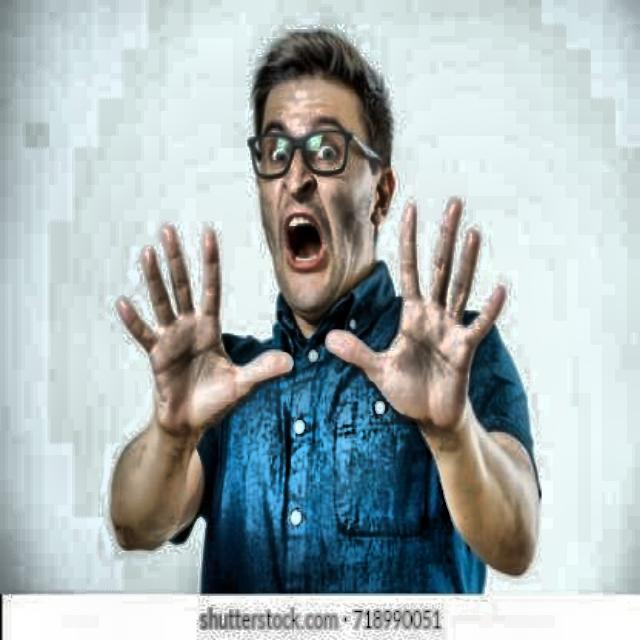fear: (217, 24, 420, 353)
